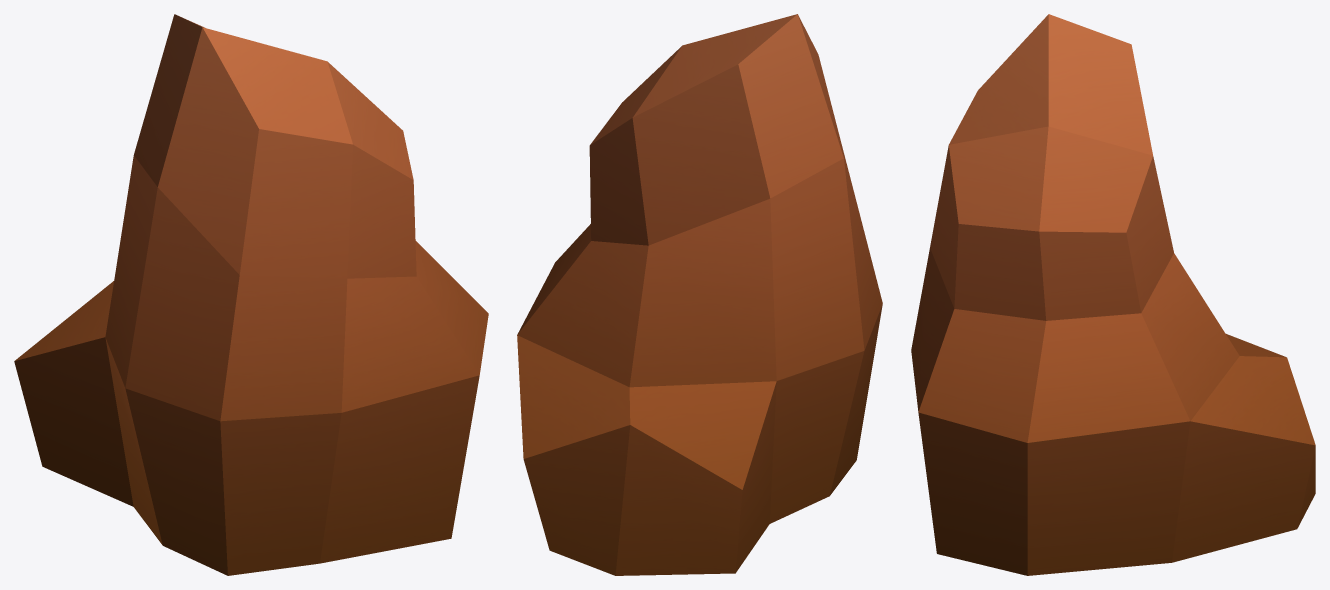
Rendered from rock7.fbx.
3 views of the same model, side by side, from view 1: azimuth 30°, elevation 25°; view 2: azimuth 150°, elevation 25°; view 3: azimuth 270°, elevation 25° (orthographic). The views are drawn at different scales.
Visible parts, largest first — view 1: Cube; view 2: Cube; view 3: Cube.
Boxes of the visible parts, box(x1,y1,x2,y2) form: Cube: box(14, 14, 488, 575); Cube: box(517, 14, 882, 575); Cube: box(911, 14, 1315, 575).
Bounding box in the file's own units: 214 × 299 × 239.
